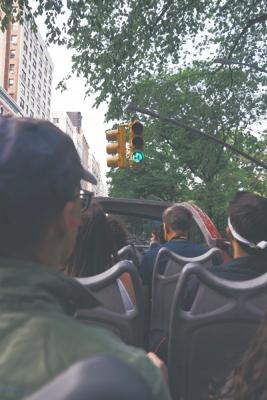International Road Signal Light: (105, 125, 127, 169), (128, 120, 145, 169)
